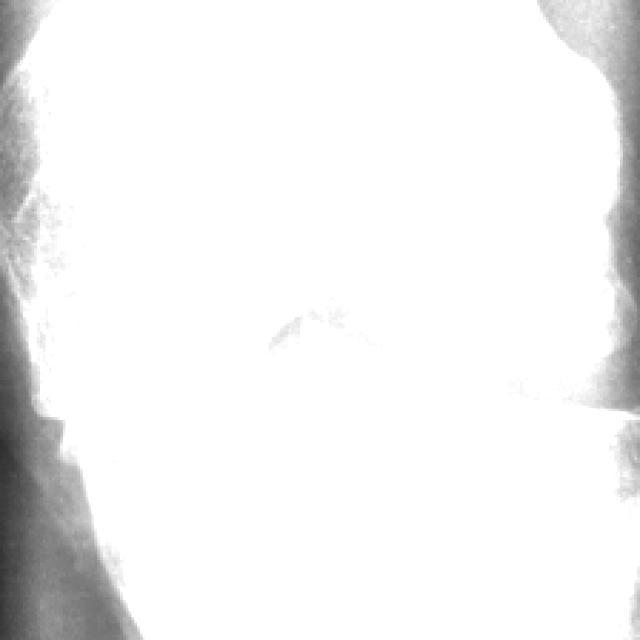femur: (6, 0, 625, 413)
tibia: (61, 329, 640, 640)
